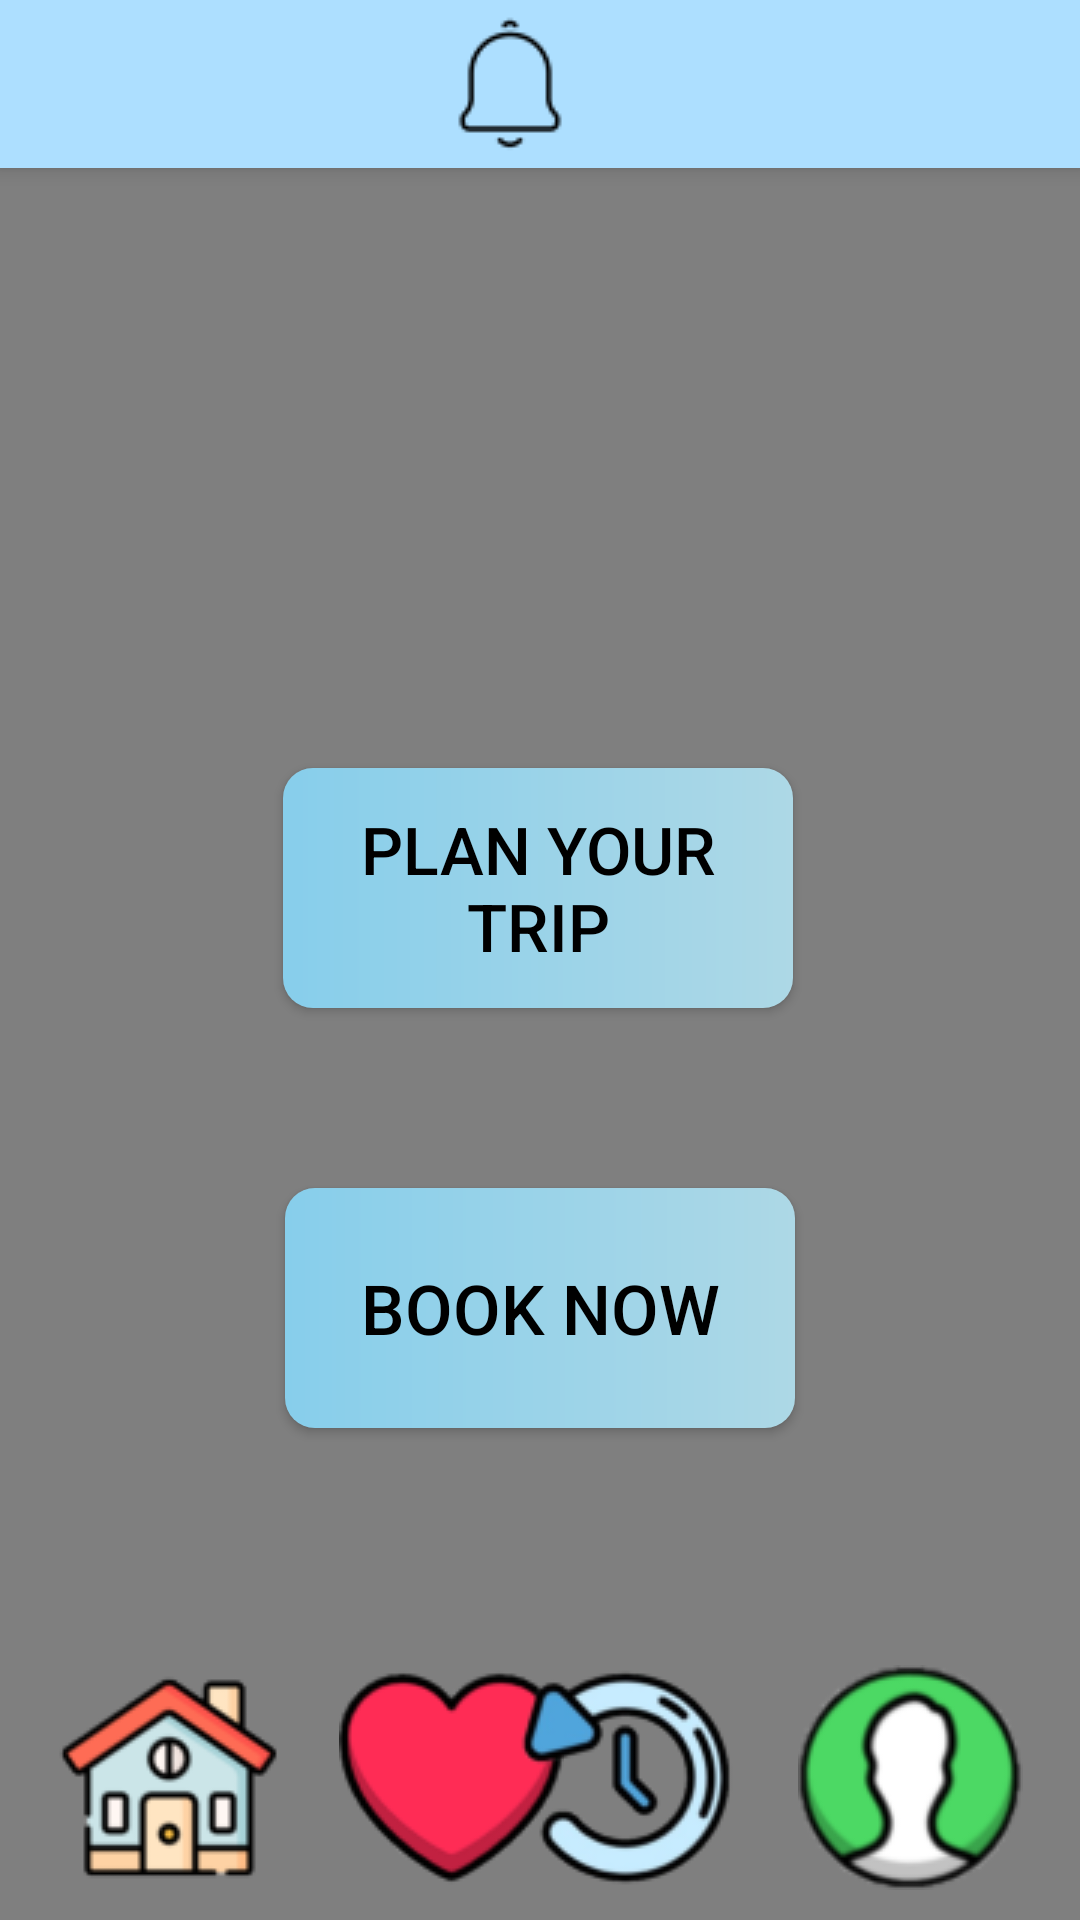

Screen size 1080 × 1920. Icon name, then its center in pixels as [x,y]:
heart: [451,1777]
history: [623,1777]
home: [169,1777]
notification: [510,83]
profile: [909,1777]
